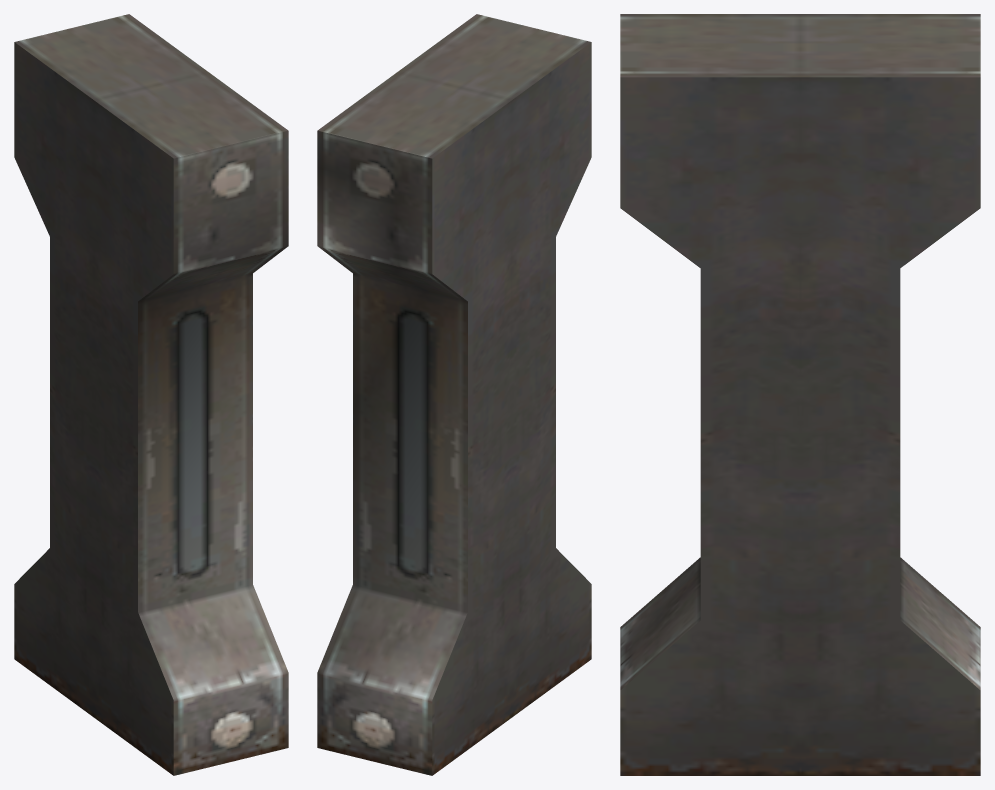
Rendered from Cover_Qiang03.glb.
3 views of the same model, side by side, from view 1: azimuth 30°, elevation 25°; view 2: azimuth 150°, elevation 25°; view 3: azimuth 270°, elevation 25° (orthographic). The views are drawn at different scales.
Visible parts, largest first — view 1: xiutz_qiang03; view 2: xiutz_qiang03; view 3: xiutz_qiang03.
Boxes of the visible parts, bbox=[...] form: xiutz_qiang03: bbox=[14, 14, 288, 775]; xiutz_qiang03: bbox=[317, 14, 591, 775]; xiutz_qiang03: bbox=[620, 14, 980, 775].
Bounding box in the file's own units: 0.774 × 3.98 × 1.86.
Materials: 1 (1 with a texture image).
